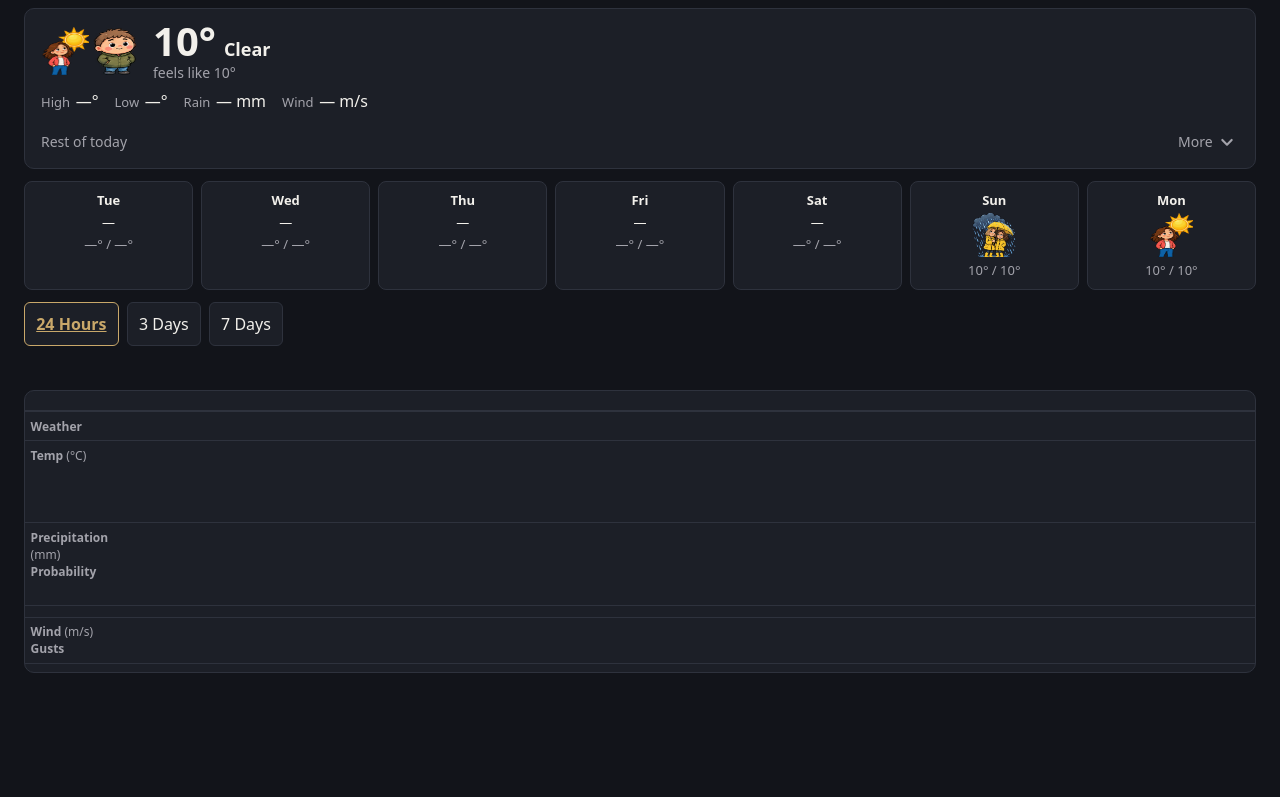
US2: synchronized 7-day timeline › still shows rain for a 7-day column where rain spans most of the daytime hours (069-fix-7day-graph-rain)
Click the button "7 Days" at coordinates (246, 324), box x1=209 y1=302 x2=283 y2=346
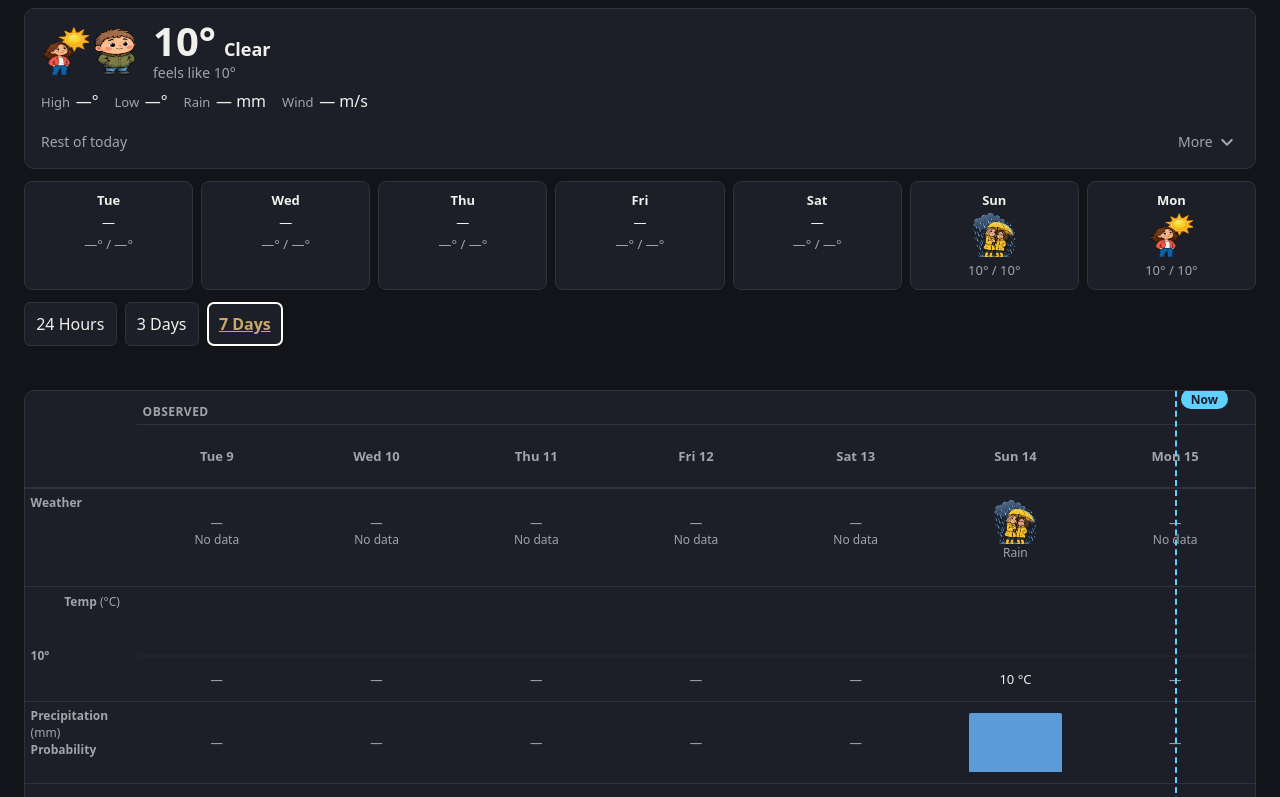
Expected: the element with class "weather-timeline-row-condition" is shown, x1=25 y1=488 x2=1255 y2=587
Result: the picture in the row of "Weather" is shown at x1=993 y1=500 x2=1037 y2=544
